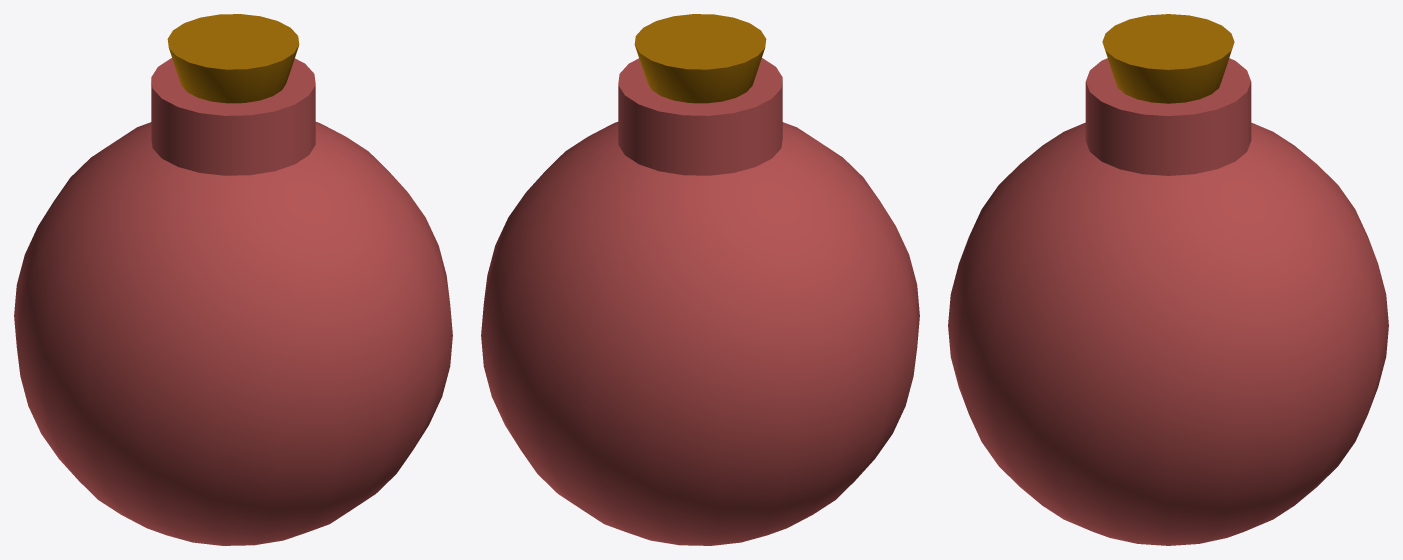
File: New_Health_Potion.fbx
3 views of the same model, side by side, from view 1: azimuth 30°, elevation 25°; view 2: azimuth 150°, elevation 25°; view 3: azimuth 270°, elevation 25° (orthographic).
Visible parts, largest first — view 1: pSphere1, pCylinder1, pCone1; view 2: pSphere1, pCylinder1, pCone1; view 3: pSphere1, pCylinder1, pCone1.
Boxes of the visible parts, x1,y1,x2,y2 form: pSphere1: [14, 122, 452, 545]; pCylinder1: [151, 58, 315, 175]; pCone1: [167, 14, 299, 103]; pSphere1: [481, 122, 919, 545]; pCylinder1: [618, 58, 782, 175]; pCone1: [634, 14, 766, 103]; pSphere1: [948, 122, 1388, 545]; pCylinder1: [1085, 58, 1251, 175]; pCone1: [1102, 14, 1234, 103].
Size of the model in its own units: 40 by 48.39 by 40.
